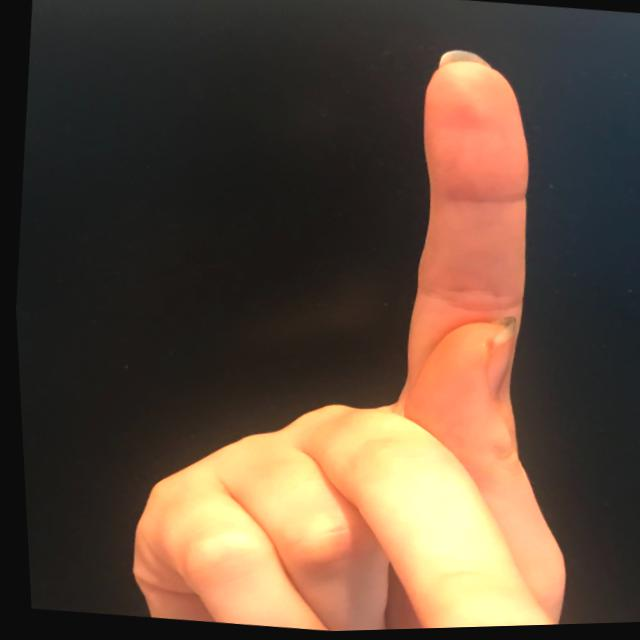P: (85, 10, 639, 638)
